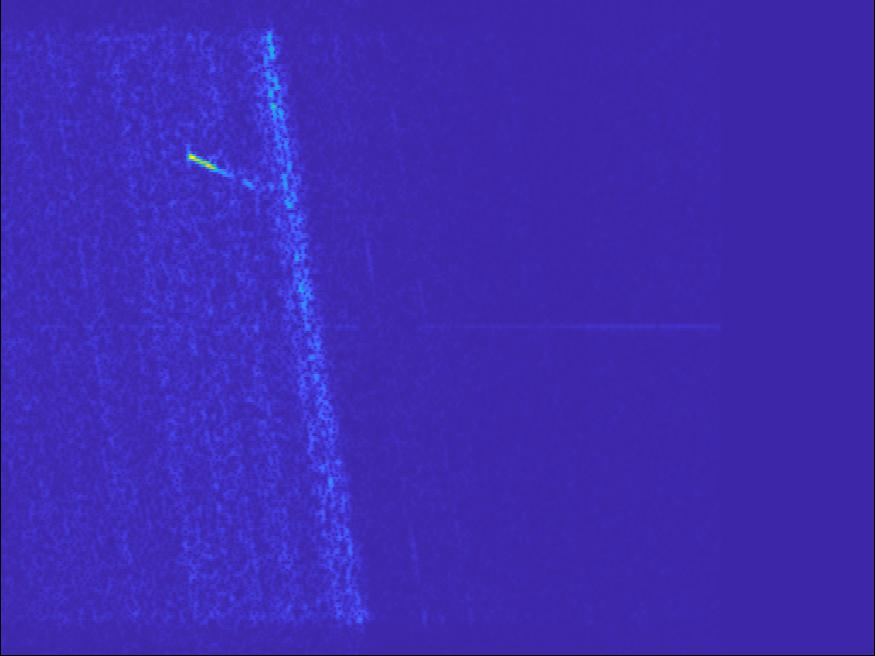Interference: (245, 42, 358, 545), (173, 136, 259, 201)
